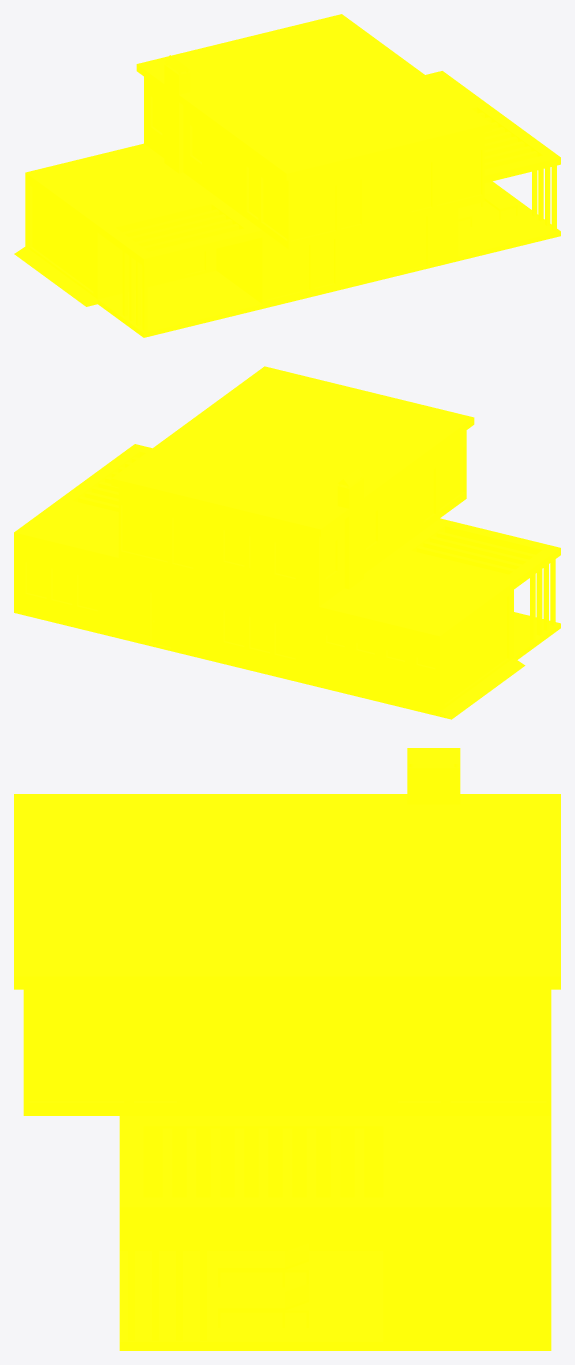
The model's file is building-house-modern-big.glb.
3 views of the same model, one above another, from view 1: azimuth 30°, elevation 25°; view 2: azimuth 150°, elevation 25°; view 3: azimuth 270°, elevation 25° (orthographic). The views are drawn at different scales.
Visible parts, largest first — view 1: building-house-modern-big; view 2: building-house-modern-big; view 3: building-house-modern-big.
Part boxes in pixels (bbox=[...]): building-house-modern-big: bbox=[14, 14, 560, 337]; building-house-modern-big: bbox=[14, 366, 560, 719]; building-house-modern-big: bbox=[14, 748, 560, 1350].
Size of the model in its own units: 18.8 by 7.77 by 11.4.
Materials: 1 (1 with a texture image).
